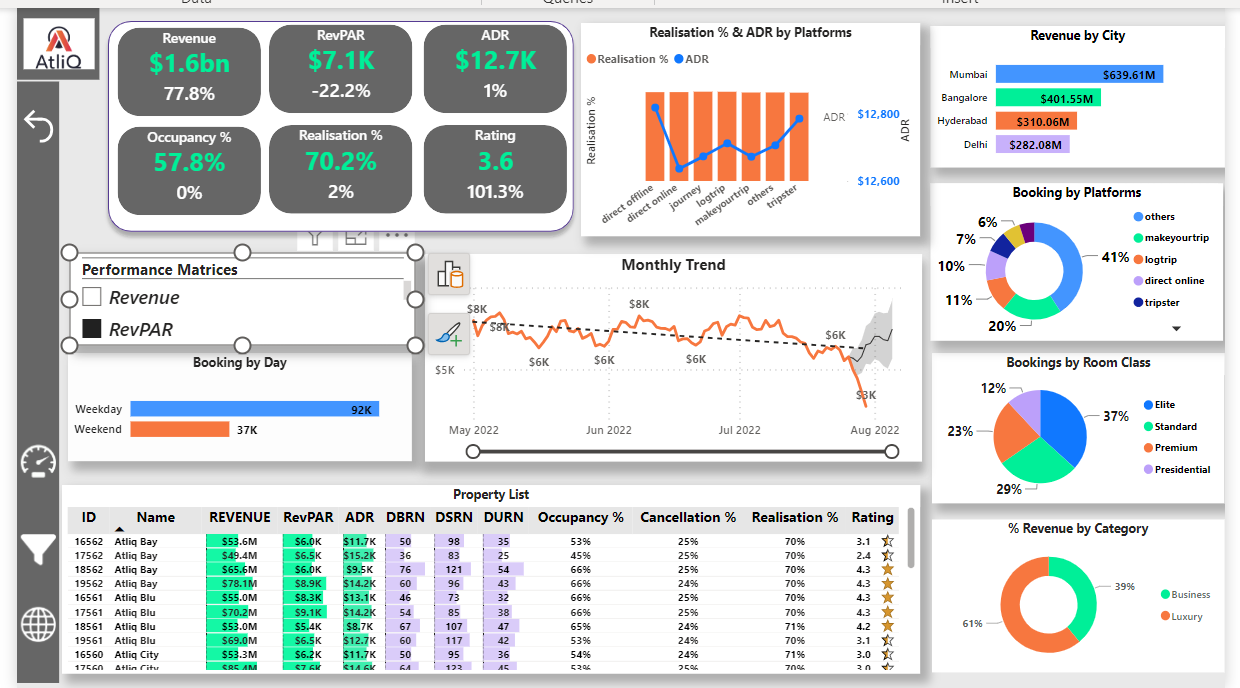

The dashboard page shown, as its layout file describes it:
{"tool":"powerbi","page":{"name":"Dashboard","canvas":[1280,720],"ordinal":0},"visuals":[{"type":"shape","title":"logo BG","box":[0,0,87.4,76.3],"z":0,"group":"g8"},{"type":"shape","title":"KPI paneWhite BG","box":[87.4,4.8,511.3,241.1],"z":0,"group":"g9"},{"type":"shape","title":"5card BG","box":[267,18.2,152.1,93.8],"z":0,"group":"g4"},{"type":"shape","title":"5card BG","box":[430.4,18.2,152.1,93.8],"z":0,"group":"g2"},{"type":"shape","title":"5card BG","box":[106.8,21.5,152.1,93.8],"z":0,"group":"g1"},{"type":"shape","title":"5card BG","box":[267,125,152.1,93.8],"z":0,"group":"g5"},{"type":"shape","title":"5card BG","box":[430.4,125,152.1,93.8],"z":0,"group":"g6"},{"type":"shape","title":"5card BG","box":[106.8,126.6,152.1,93.8],"z":0,"group":"g3"},{"type":"lineChart","title":"Monthly Trend","fields":{"Y":["All Measures.Revenue"],"Category":["dim_date.date.Variation.Date Hierarchy.Year","dim_date.date.Variation.Date Hierarchy.Month","dim_date.date.Variation.Date Hierarchy.Day"]},"box":[431.7,259.4,526.7,220],"z":0,"group":"g7"},{"type":"tableEx","title":"Property List","fields":{"Values":["dim_hotels.property_id","dim_hotels.property_name","All Measures.Revenue","All Measures.RevPAR","All Measures.ADR","All Measures.DBRN","All Measures.DSRN","All Measures.DURN","All Measures.Occupancy %","All Measures.Cancellation %","All Measures.Realisation %","All Measures.Average Rating"]},"box":[47.7,505.4,909.1,200.3],"z":0},{"type":"image","title":" # AtliQ Logo","box":[1.2,0.8,85.8,73.1],"z":1000,"group":"g8"},{"type":"group","id":"g1","title":"# KPI card","box":[106.8,21,152.1,95.5],"z":1000,"group":"g9"},{"type":"card","title":"Revenur WOW %","fields":{"Values":["All Measures.\"RevPAR WoW change %"]},"box":[267.5,64.6,152.1,46.9],"z":1000,"group":"g4"},{"type":"card","title":"Revenur WOW %","fields":{"Values":["All Measures.\"ADR WoW change %"]},"box":[430.9,64.6,152.1,46.9],"z":1000,"group":"g2"},{"type":"card","title":"Revenur WOW %","fields":{"Values":["All Measures.\"Revenue WoW change %"]},"box":[107.3,67.9,152.1,46.9],"z":1000,"group":"g1"},{"type":"card","title":"Rating ","fields":{"Values":["All Measures.Average Rating"]},"box":[430.9,124.5,152.1,56.6],"z":1000,"group":"g6"},{"type":"card","title":"Revenur WOW %","fields":{"Values":["All Measures.\"Realisation WoW change %"]},"box":[267.5,171.4,152.1,46.9],"z":1000,"group":"g5"},{"type":"card","title":"Revenur WOW %","fields":{"Values":["All Measures.\"Occupancy WoW change %"]},"box":[107.3,173,152.1,46.9],"z":1000,"group":"g3"},{"type":"slicer","fields":{"Values":["Booking Matrices.Booking Matrices"]},"box":[55,258.3,366.7,98.3],"z":1000,"group":"g7"},{"type":"card","title":"RevPAR","fields":{"Values":["All Measures.RevPAR"]},"box":[267.5,17.7,152.1,56.6],"z":2000,"group":"g4"},{"type":"group","id":"g2","title":"# KPI card","box":[430.4,17.7,152.1,95.5],"z":2000,"group":"g9"},{"type":"card","title":"ADR","fields":{"Values":["All Measures.ADR"]},"box":[430.9,17.7,152.1,56.6],"z":2000,"group":"g2"},{"type":"card","title":"Revenue","fields":{"Values":["All Measures.Revenue"]},"box":[107.3,21,152.1,56.6],"z":2000,"group":"g1"},{"type":"card","title":"Realisation %","fields":{"Values":["All Measures.Realisation %"]},"box":[267.5,124.5,152.1,56.6],"z":2000,"group":"g5"},{"type":"card","title":"Occupancy %","fields":{"Values":["All Measures.Occupancy %"]},"box":[107.3,126.1,152.1,56.6],"z":2000,"group":"g3"},{"type":"card","title":"Rating WOW %","fields":{"Values":["All Measures.\"Rating WoW change %"]},"box":[430.4,171.4,152.1,46.9],"z":2000,"group":"g6"},{"type":"pieChart","title":"Bookings by Room Class","fields":{"Category":["dim_rooms.room_class"],"Y":["All Measures.Total Bookings"]},"box":[968.9,365.6,309.8,159],"z":2000},{"type":"clusteredBarChart","title":"Revenue by City","fields":{"Category":["dim_hotels.city"],"Y":["All Measures.Revenue"]},"box":[967.9,22.3,311.5,149.4],"z":3000},{"type":"group","id":"g3","title":"# KPI card","box":[106.8,126.1,152.1,95.5],"z":3000,"group":"g9"},{"type":"group","id":"g4","title":"# KPI card","box":[267,17.7,152.1,95.5],"z":4000,"group":"g9"},{"type":"donutChart","title":"Booking by Platforms","fields":{"Category":["fact_bookings.booking_platform"],"Y":["All Measures.Total Bookings"]},"box":[969.5,182.8,309.9,166.9],"z":4000},{"type":"shape","title":"Navigation bar BG","box":[0,77.9,44.5,637.4],"z":5000},{"type":"group","id":"g5","title":"# KPI card","box":[267,124.5,152.1,95.5],"z":5000,"group":"g9"},{"type":"actionButton","title":"reset button ","box":[0,95.4,46.1,58.8],"z":6000},{"type":"group","id":"g6","title":"# KPI card","box":[430.4,124.5,152.6,94.4],"z":6000,"group":"g9"},{"type":"clusteredBarChart","title":"Booking by Day","fields":{"Y":["All Measures.Total Bookings"],"Category":["dim_date.Day Type #DAX"]},"box":[55.6,365.6,364,114.4],"z":7000},{"type":"actionButton","title":"navi pane - map icon ","box":[0,619.7,45.3,66.3],"z":8000},{"type":"actionButton","title":"navi pane - filter icon ","box":[0,550.2,45.3,48.5],"z":9000},{"type":"group","id":"g7","title":"# Trend line graph","box":[55,258.3,903.3,221.7],"z":10000},{"type":"lineStackedColumnComboChart","title":"Realisation % & ADR by Platforms","fields":{"Category":["fact_bookings.booking_platform"],"Y":["All Measures.Realisation %"],"Y2":["All Measures.ADR"]},"box":[598.4,16.4,359,226.2],"z":11000},{"type":"donutChart","title":"% Revenue by Category","fields":{"Category":["dim_hotels.category"],"Y":["All Measures.Revenue"]},"box":[968.9,542.6,309.8,162.3],"z":12000},{"type":"group","id":"g8","title":"# LOGO","box":[0,0,87.4,76.3],"z":13000},{"type":"group","id":"g9","title":"# KPIs","box":[87.4,4.8,511.8,240],"z":14000},{"type":"actionButton","box":[0,443.3,45,73.3],"z":17000}]}

Visuals, with their boxes in screenshot pixels (x1, y1, x2, y2):
"logo BG" shape: (x1=13, y1=3, x2=95, y2=75)
"KPI paneWhite BG" shape: (x1=95, y1=8, x2=577, y2=235)
"5card BG" shape: (x1=264, y1=20, x2=408, y2=109)
"5card BG" shape: (x1=418, y1=20, x2=562, y2=109)
"5card BG" shape: (x1=114, y1=23, x2=257, y2=112)
"5card BG" shape: (x1=264, y1=121, x2=408, y2=209)
"5card BG" shape: (x1=418, y1=121, x2=562, y2=209)
"5card BG" shape: (x1=114, y1=122, x2=257, y2=211)
"Monthly Trend" lineChart: (x1=420, y1=248, x2=916, y2=455)
"Property List" tableEx: (x1=58, y1=479, x2=914, y2=668)
" # AtliQ Logo" image: (x1=14, y1=4, x2=95, y2=73)
"# KPI card" group: (x1=114, y1=23, x2=257, y2=113)
"Revenur WOW %" card: (x1=265, y1=64, x2=408, y2=108)
"Revenur WOW %" card: (x1=419, y1=64, x2=562, y2=108)
"Revenur WOW %" card: (x1=114, y1=67, x2=257, y2=111)
"Rating " card: (x1=419, y1=121, x2=562, y2=174)
"Revenur WOW %" card: (x1=265, y1=165, x2=408, y2=209)
"Revenur WOW %" card: (x1=114, y1=166, x2=257, y2=210)
slicer - Booking Matrices.Booking Matrices: (x1=65, y1=247, x2=410, y2=339)
"RevPAR" card: (x1=265, y1=20, x2=408, y2=73)
"# KPI card" group: (x1=418, y1=20, x2=562, y2=110)
"ADR" card: (x1=419, y1=20, x2=562, y2=73)
"Revenue" card: (x1=114, y1=23, x2=257, y2=76)
"Realisation %" card: (x1=265, y1=121, x2=408, y2=174)
"Occupancy %" card: (x1=114, y1=122, x2=257, y2=175)
"Rating WOW %" card: (x1=418, y1=165, x2=562, y2=209)
"Bookings by Room Class" pieChart: (x1=926, y1=348, x2=1218, y2=497)
"Revenue by City" clusteredBarChart: (x1=925, y1=24, x2=1218, y2=165)
"# KPI card" group: (x1=114, y1=122, x2=257, y2=212)
"# KPI card" group: (x1=264, y1=20, x2=408, y2=110)
"Booking by Platforms" donutChart: (x1=926, y1=175, x2=1218, y2=333)
"Navigation bar BG" shape: (x1=13, y1=77, x2=55, y2=677)
"# KPI card" group: (x1=264, y1=121, x2=408, y2=210)
"reset button " actionButton: (x1=13, y1=93, x2=56, y2=149)
"# KPI card" group: (x1=418, y1=121, x2=562, y2=209)
"Booking by Day" clusteredBarChart: (x1=65, y1=348, x2=408, y2=455)
"navi pane - map icon " actionButton: (x1=13, y1=587, x2=56, y2=650)
"navi pane - filter icon " actionButton: (x1=13, y1=522, x2=56, y2=567)
"# Trend line graph" group: (x1=65, y1=247, x2=916, y2=455)
"Realisation % & ADR by Platforms" lineStackedColumnComboChart: (x1=577, y1=19, x2=915, y2=232)
"% Revenue by Category" donutChart: (x1=926, y1=514, x2=1218, y2=667)
"# LOGO" group: (x1=13, y1=3, x2=95, y2=75)
"# KPIs" group: (x1=95, y1=8, x2=577, y2=234)
actionButton: (x1=13, y1=421, x2=55, y2=490)
